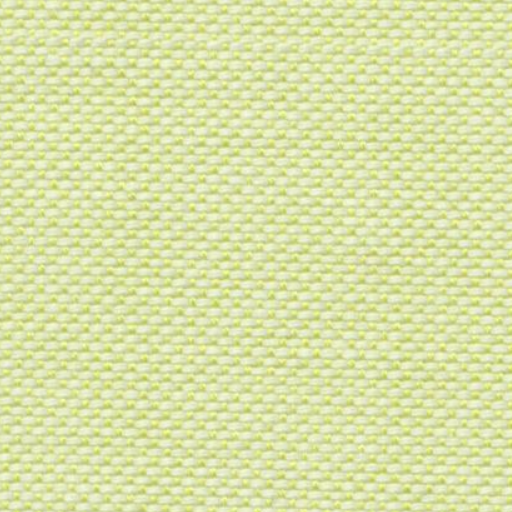TuoSha: (20, 14, 497, 84)
